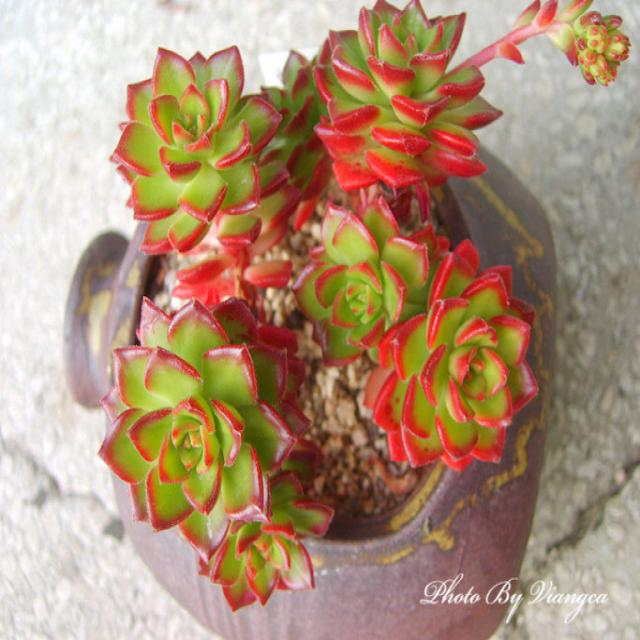Letizia: (100, 298, 306, 561), (315, 0, 501, 213), (368, 240, 538, 470), (111, 47, 281, 253), (292, 198, 432, 365), (460, 0, 630, 84)
